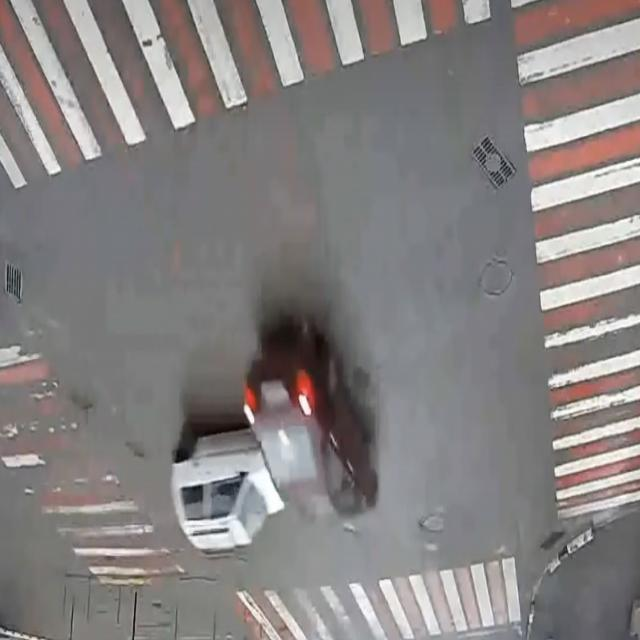moderate: (169, 326, 382, 558)
